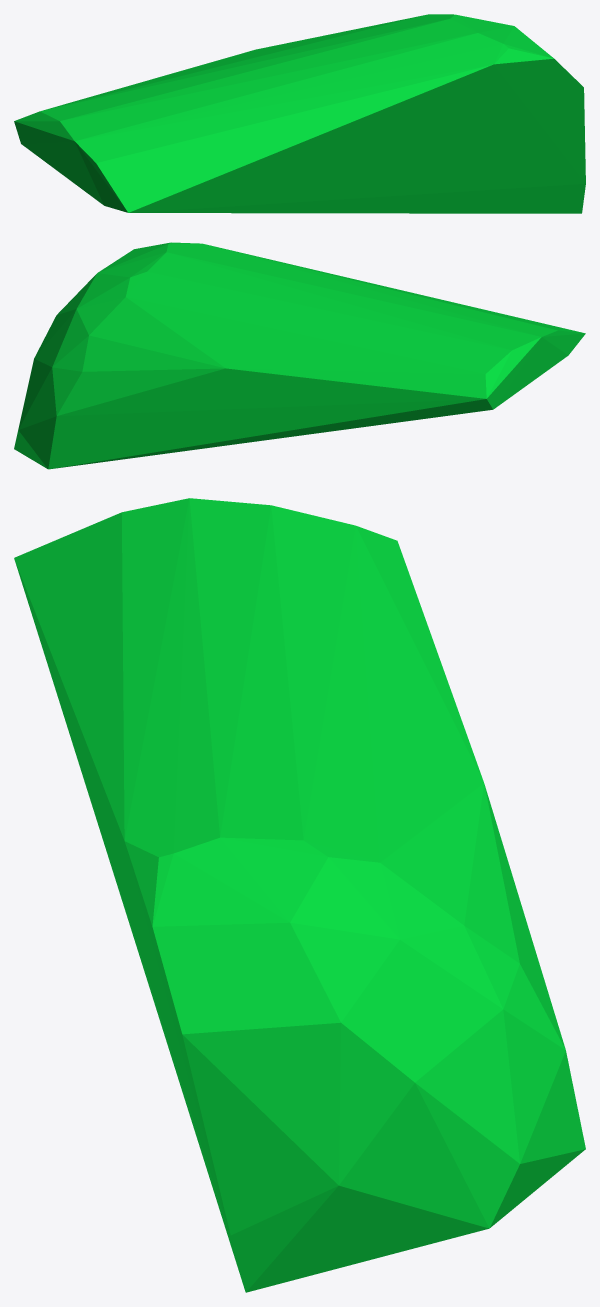
The model's file is hip-yaw-housing_convex_piece_002.obj.
3 renders of one model, top to bottom at view 1: azimuth 30°, elevation 25°; view 2: azimuth 150°, elevation 25°; view 3: azimuth 270°, elevation 25°, orthographic. The views are drawn at different scales.
Bounding box in the file's own units: 0.1017 × 0.0396 × 0.0566.
